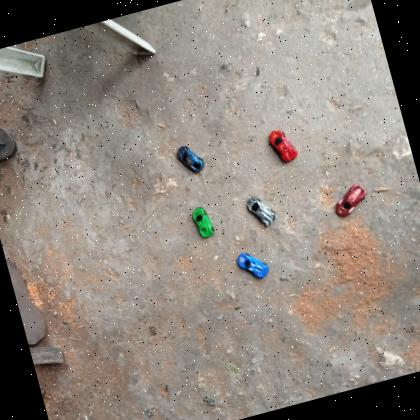Car: (330, 181, 372, 220), (267, 125, 300, 167), (234, 247, 271, 284), (245, 192, 278, 230), (174, 141, 206, 178), (190, 204, 217, 240)
